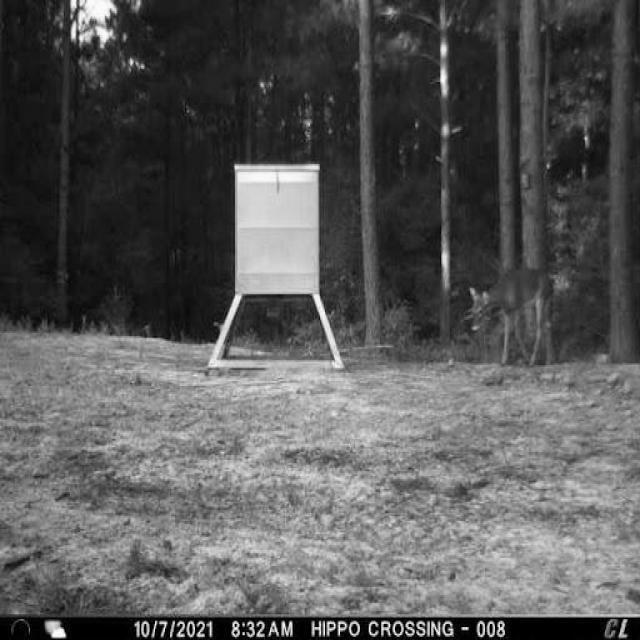Deer: (457, 259, 568, 371)
